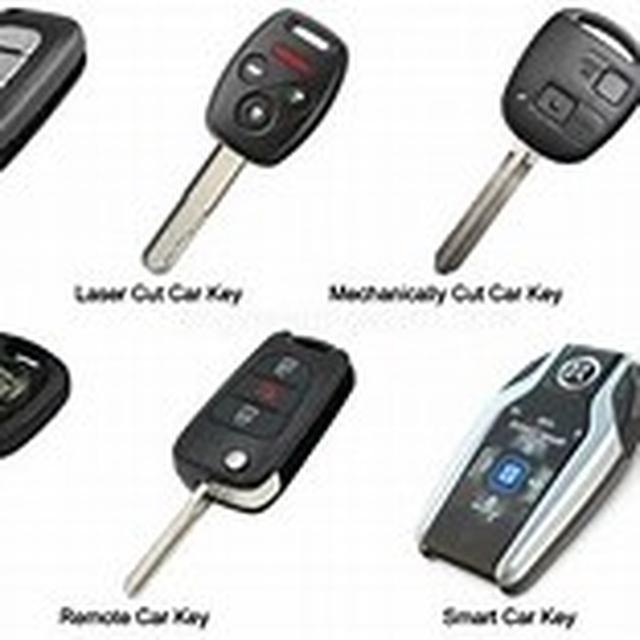key: (122, 329, 374, 595), (446, 319, 640, 619), (422, 25, 631, 274), (147, 28, 355, 272), (0, 2, 101, 192), (0, 319, 82, 479)
